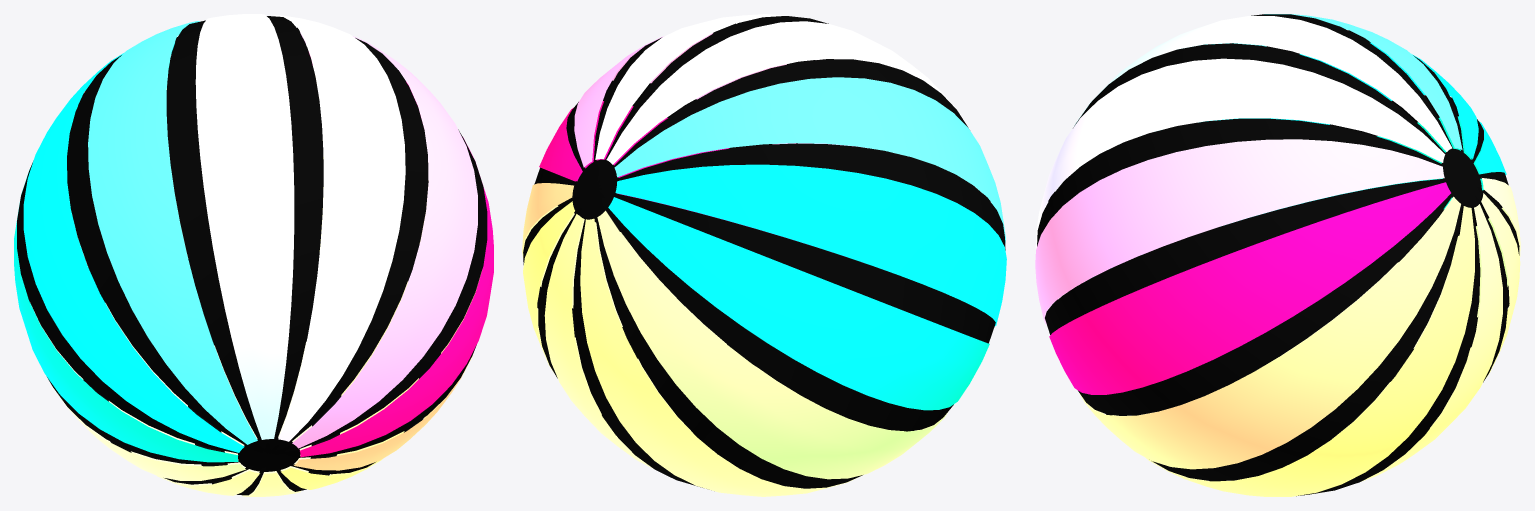
Rendered from superball.glb.
The picture shows the model from 3 angles, left to right: view 1: azimuth 30°, elevation 25°; view 2: azimuth 150°, elevation 25°; view 3: azimuth 270°, elevation 25°; orthographic projection.
Parts seen in each view (by area): view 1: Kugel.1, Kugel-12, Kugel-11, Kugel-1, Kugel-10, Kugel-2, Kugel-9, Kugel-3, Kugel-4, Kugel-8, Kugel-5, Kugel-7 (+1 smaller); view 2: Kugel.1, Kugel-9, Kugel-10, Kugel-8, Kugel-11, Kugel-7, Kugel-12, Kugel-6, Kugel-1, Kugel-5, Kugel-2, Kugel-4 (+1 smaller); view 3: Kugel.1, Kugel-3, Kugel-2, Kugel-4, Kugel-1, Kugel-5, Kugel-12, Kugel-6, Kugel-11, Kugel-7, Kugel-8, Kugel-10 (+1 smaller).
Boxes of the visible parts, x1,y1,x2,y2 form: Kugel.1: (17, 16, 487, 495); Kugel-12: (195, 14, 294, 439); Kugel-11: (88, 21, 257, 444); Kugel-1: (272, 15, 405, 441); Kugel-10: (23, 43, 244, 452); Kugel-2: (292, 32, 477, 448); Kugel-9: (14, 62, 238, 462); Kugel-3: (300, 53, 493, 457); Kugel-4: (294, 180, 481, 470); Kugel-8: (30, 88, 245, 480); Kugel-5: (280, 157, 418, 489); Kugel-7: (105, 254, 259, 495); Kugel.1: (523, 16, 1005, 488); Kugel-9: (608, 197, 989, 410); Kugel-10: (615, 164, 1006, 325); Kugel-8: (597, 210, 948, 479); Kugel-11: (614, 77, 1005, 300); Kugel-7: (580, 218, 903, 496); Kugel-12: (606, 21, 982, 193); Kugel-6: (544, 214, 716, 468); Kugel-1: (595, 14, 874, 159); Kugel-5: (523, 201, 808, 432); Kugel-2: (574, 33, 867, 167); Kugel-4: (522, 183, 726, 343); Kugel.1: (1037, 14, 1519, 496); Kugel-3: (1049, 182, 1450, 394); Kugel-2: (1035, 139, 1444, 324); Kugel-4: (1079, 196, 1460, 469); Kugel-1: (1035, 58, 1445, 299); Kugel-5: (1112, 206, 1474, 496); Kugel-12: (1055, 16, 1452, 191); Kugel-6: (1139, 204, 1502, 494); Kugel-11: (1199, 14, 1462, 149); Kugel-7: (1332, 193, 1520, 438); Kugel-8: (1273, 178, 1520, 360); Kugel-10: (1207, 42, 1478, 159).
Size of the model in its own units: 3 by 3.01 by 3.01.
